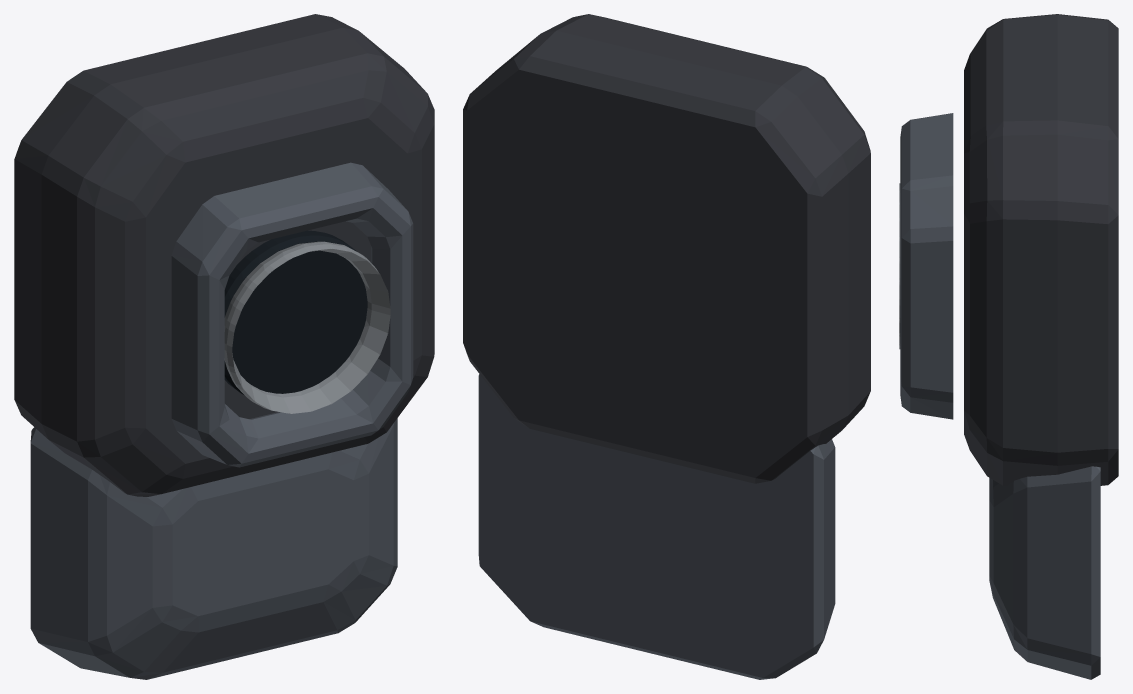
File: front_trim.obj
3 views of the same model, side by side, from view 1: azimuth 30°, elevation 25°; view 2: azimuth 150°, elevation 25°; view 3: azimuth 270°, elevation 25° (orthographic). The views are drawn at different scales.
Parts seen in each view (by area): view 1: front_trim; view 2: front_trim; view 3: front_trim.
Boxes of the visible parts, bbox=[...] form: front_trim: bbox=[14, 14, 434, 679]; front_trim: bbox=[463, 14, 870, 679]; front_trim: bbox=[899, 14, 1118, 679].
Size of the model in its own units: 0.0499 by 0.0774 by 0.0275.
Materials: 1 (1 with a texture image).
